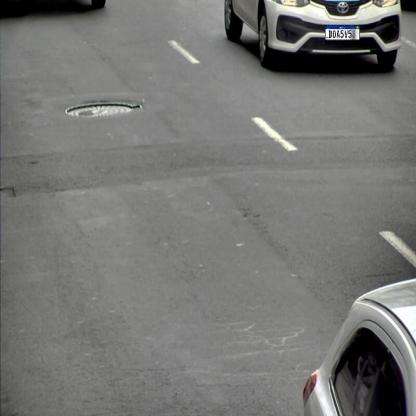PlacaM: (325, 25, 360, 40)
